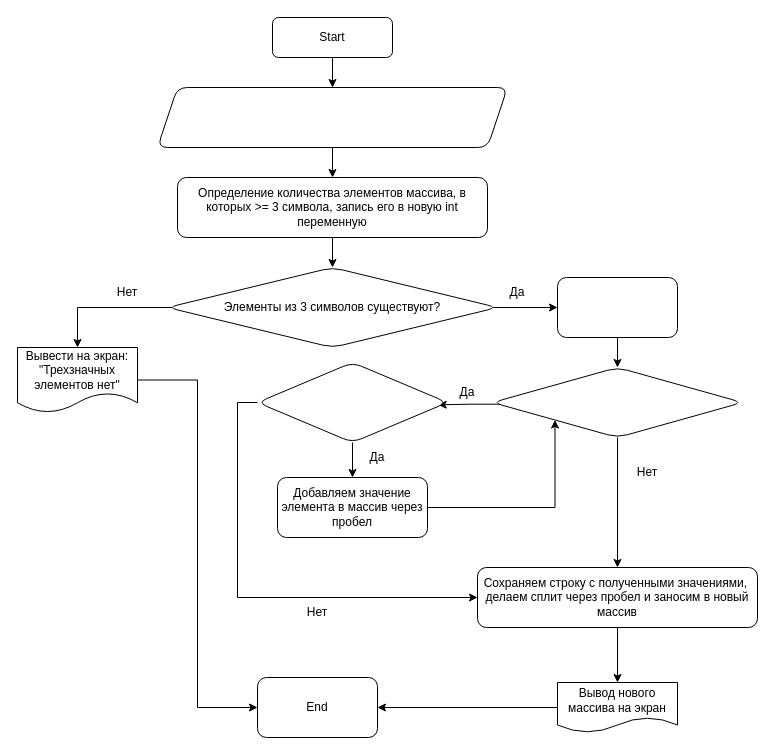
Image size: 775x755. Some labels were removed from this diagram. Here are the shapes that lost their labels. From the top down, the centre of each, then its label:
the point at 332,117: Ввод данных с клавиатуры через запятую и запись их в новый массив
the point at 617,307: Создается новая string переменная newArray
the point at 352,402: Количество символов в элементе <= 3?
the point at 617,402: Счетчик i меньше длины изначального массива?
